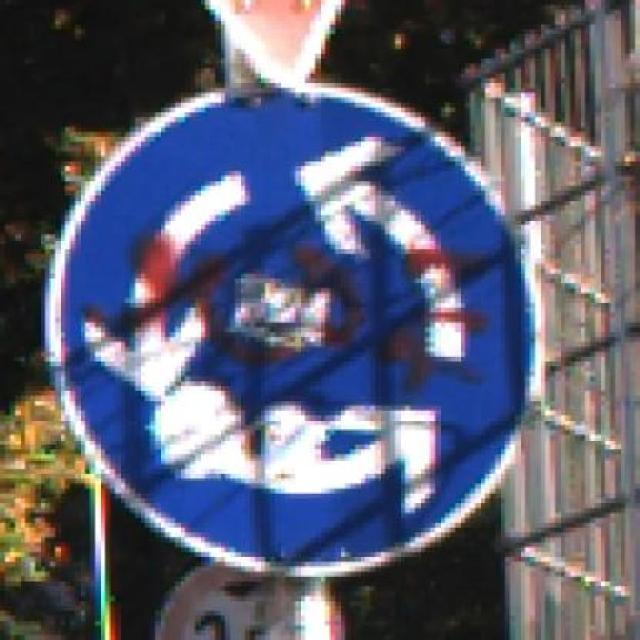Round-About: (24, 73, 584, 587)
